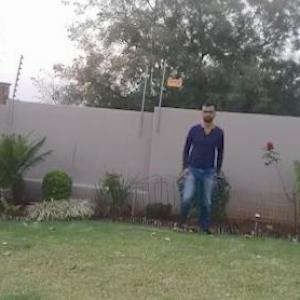follow: (175, 100, 223, 236)
